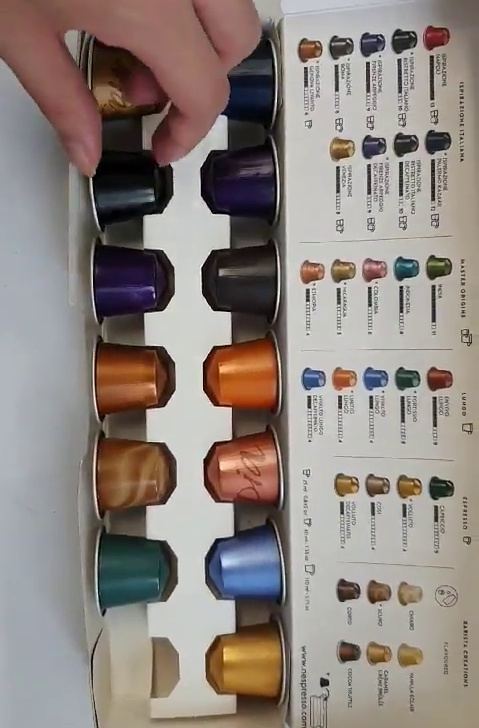capsule_10: (87, 140, 175, 239)
